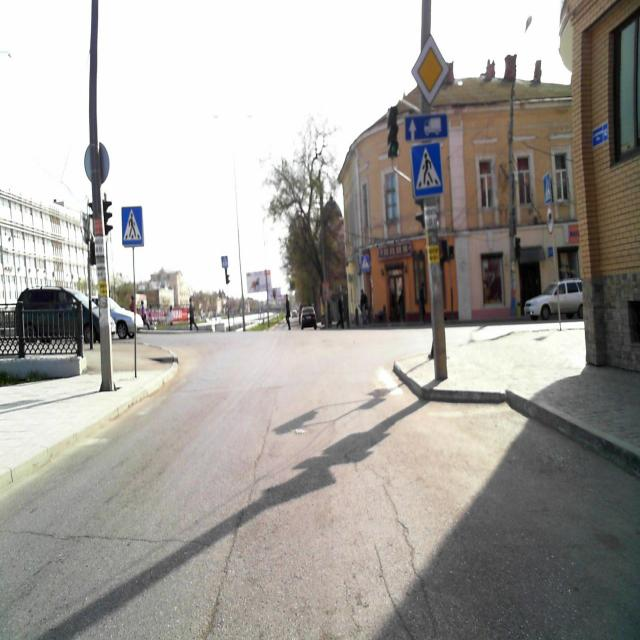road sign: (411, 37, 450, 105), (412, 145, 443, 196), (406, 113, 447, 139), (122, 206, 143, 248), (544, 172, 554, 206), (360, 253, 370, 272), (222, 255, 229, 268)
